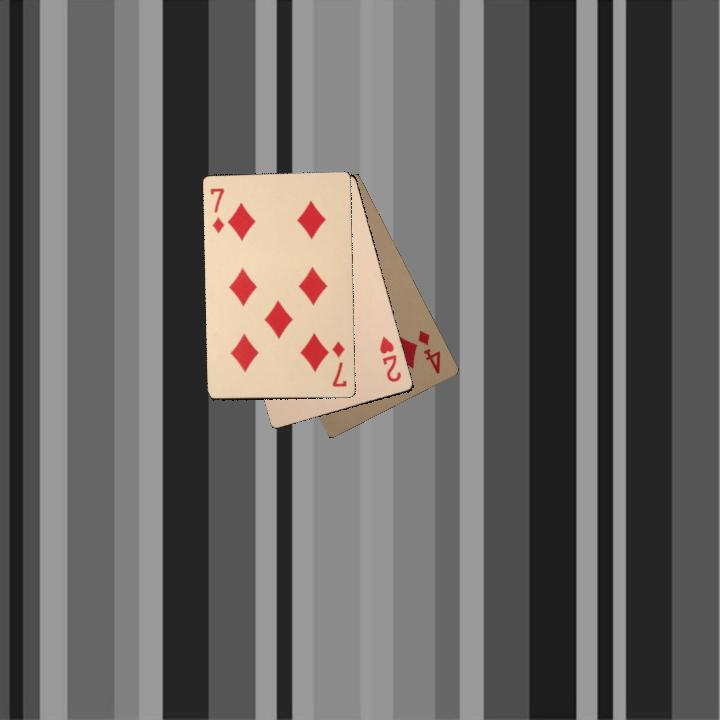2h: (375, 333, 404, 385)
4d: (414, 326, 443, 376)
7d: (328, 337, 349, 389), (206, 184, 227, 235)
